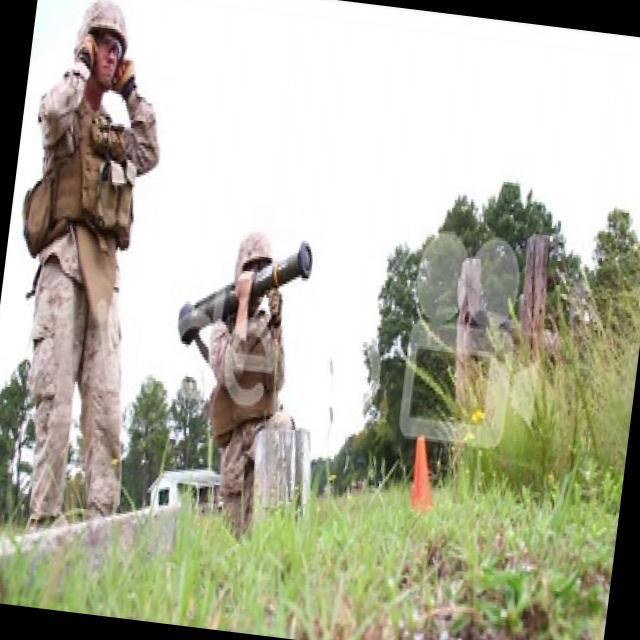rocket: (176, 225, 317, 360)
